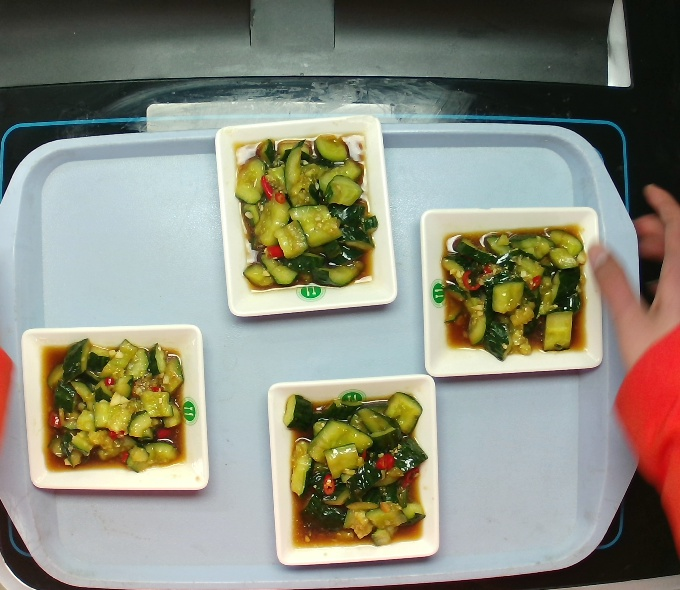wcq-LiangBanHuangGua: (226, 140, 381, 292), (284, 393, 430, 545), (39, 333, 192, 478), (436, 221, 590, 357)
